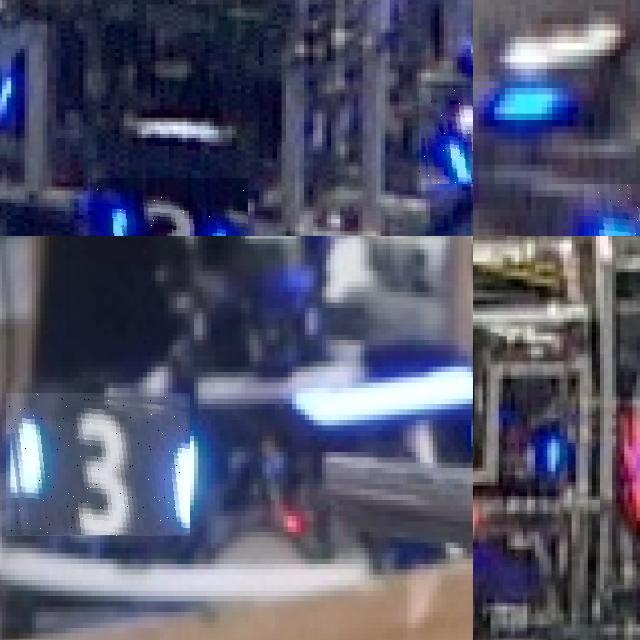B2: (90, 178, 247, 236), (419, 87, 473, 184)
B3: (6, 393, 190, 538)
